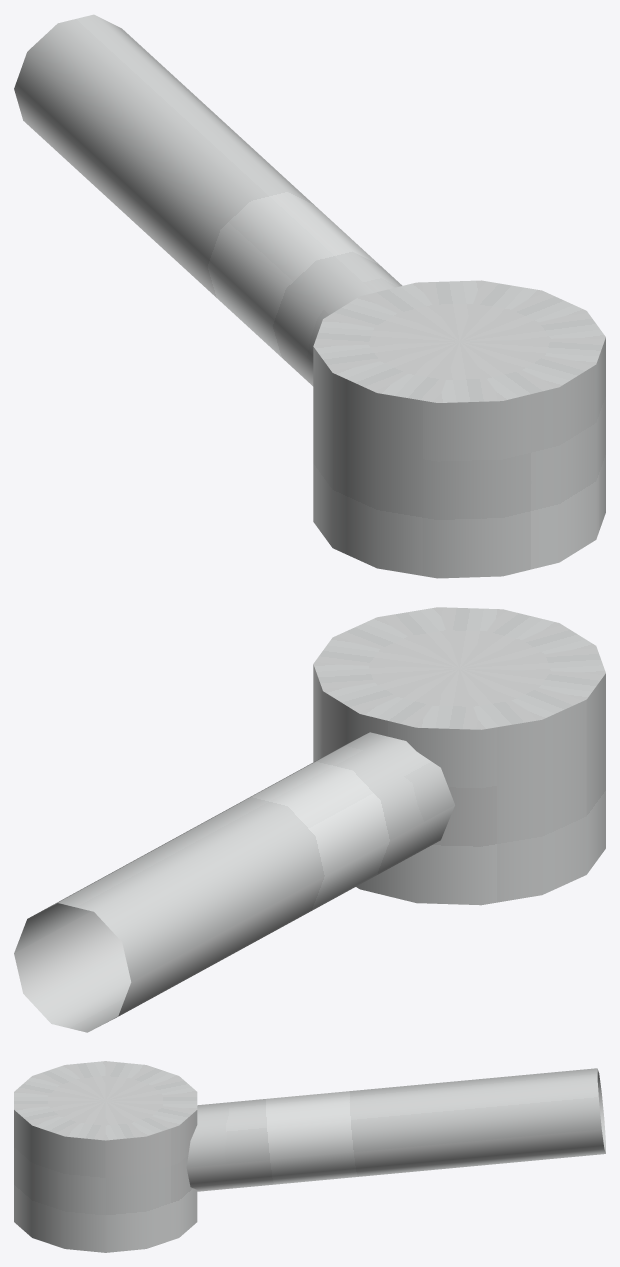
The model's file is trusssignalarm_level12_c1_thin.obj.
The picture shows the model from 3 angles, top to bottom: view 1: azimuth 30°, elevation 25°; view 2: azimuth 150°, elevation 25°; view 3: azimuth 270°, elevation 25°; orthographic projection. The views are drawn at different scales.
Parts seen in each view (by area): view 1: trusssignalarm_level12_c1_thin; view 2: trusssignalarm_level12_c1_thin; view 3: trusssignalarm_level12_c1_thin.
Part boxes in pixels (x1,y1,x2,y2): trusssignalarm_level12_c1_thin: [14, 14, 605, 578]; trusssignalarm_level12_c1_thin: [14, 607, 605, 1032]; trusssignalarm_level12_c1_thin: [14, 1061, 605, 1252].
Bounding box in the file's own units: 0.5688 × 0.4648 × 1.79.
